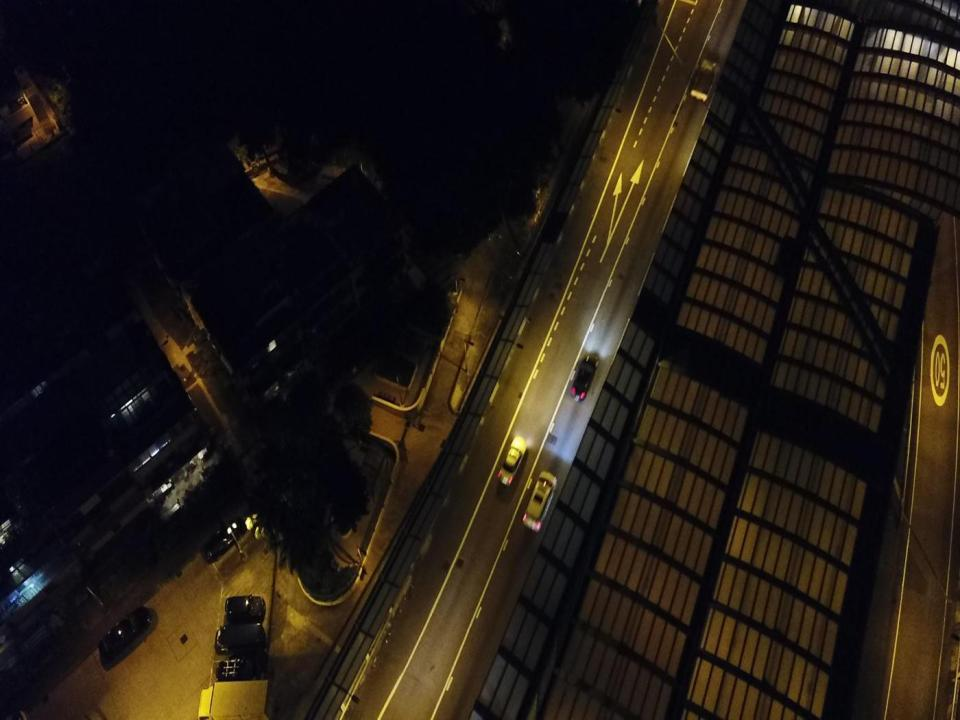car: (98, 605, 152, 662), (522, 470, 557, 532), (201, 516, 246, 563), (497, 435, 527, 486), (570, 355, 599, 402), (215, 659, 265, 685), (225, 593, 266, 621)
truck: (198, 679, 274, 719), (689, 57, 719, 102)
van: (214, 624, 267, 656)
